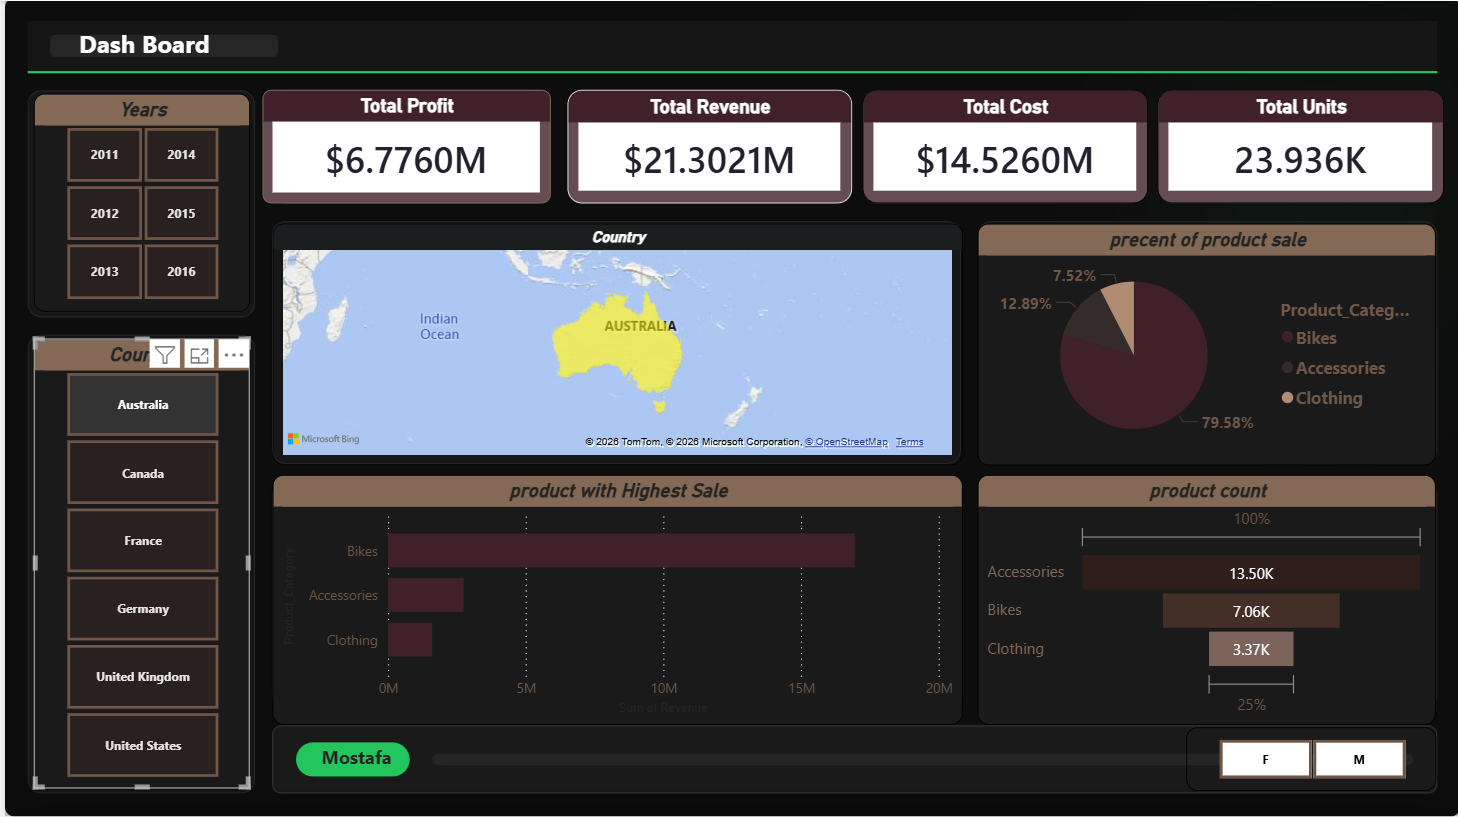

The page's visual inventory and layout, read from the dashboard file:
{"tool":"powerbi","page":{"name":"Dashboard","canvas":[1280,720],"ordinal":0},"visuals":[{"type":"cardVisual","title":"Total Profit","fields":{"Data":["Sales.total_profit"]},"box":[226.2,78.6,253.6,100],"z":0},{"type":"cardVisual","title":"Total Units","fields":{"Data":["CountNonNull(Sales.Order_Quantity)"]},"box":[1014.3,78.6,252.4,100],"z":1000},{"type":"cardVisual","title":"Total Cost","fields":{"Data":["Sales.Total Cost"]},"box":[754.8,78.6,251.2,100],"z":2000},{"type":"cardVisual","title":"Total Revenue","fields":{"Data":["Sales.total_revenue"]},"box":[495.2,78.6,250,100],"z":3000},{"type":"slicer","title":"Country","fields":{"Values":["Sales.Country"]},"box":[25,296.4,190.5,396.4],"z":4000},{"type":"slicer","title":"Years","fields":{"Values":["Sales.Date.Variation.Date Hierarchy.Year"]},"box":[25,81,190.5,191.7],"z":5000},{"type":"filledMap","title":"Country","fields":{"Category":["Sales.Country"]},"box":[235.7,195.2,607.1,213.1],"z":6000},{"type":"pieChart","title":"precent of product sale","fields":{"Category":["Sales.Product_Category"],"Y":["Sum(Sales.Revenue)"]},"box":[856,195.2,403.6,213.1],"z":7000},{"type":"barChart","title":"product with Highest Sale","fields":{"Category":["Sales.Product_Category"],"Y":["Sum(Sales.Revenue)"]},"box":[235.7,416.7,607.1,220.2],"z":8000},{"type":"funnel","title":"product count","fields":{"Category":["Sales.Product_Category"],"Y":["CountNonNull(Sales.Product)"]},"box":[856,416.7,403.6,220.2],"z":9000},{"type":"textbox","box":[0,17.9,251.2,47.6],"z":10000},{"type":"slicer","title":"Years","fields":{"Values":["Sales.Customer_Gender"]},"box":[1039.3,639.3,220.2,56],"z":11000},{"type":"textbox","box":[226.2,648.8,165.5,36.9],"z":12000}]}

Visuals, with their boxes in screenshot pixels (x1, y1, x2, y2), scaled from the page's 1280x720 canvas onto the 1458x817 screenshot:
"Total Profit" cardVisual: rect(258, 89, 547, 203)
"Total Units" cardVisual: rect(1155, 89, 1443, 203)
"Total Cost" cardVisual: rect(860, 89, 1146, 203)
"Total Revenue" cardVisual: rect(564, 89, 849, 203)
"Country" slicer: rect(28, 336, 245, 786)
"Years" slicer: rect(28, 92, 245, 309)
"Country" filledMap: rect(268, 221, 960, 463)
"precent of product sale" pieChart: rect(975, 221, 1435, 463)
"product with Highest Sale" barChart: rect(268, 473, 960, 723)
"product count" funnel: rect(975, 473, 1435, 723)
textbox: rect(0, 20, 286, 74)
"Years" slicer: rect(1184, 725, 1435, 789)
textbox: rect(258, 736, 446, 778)
